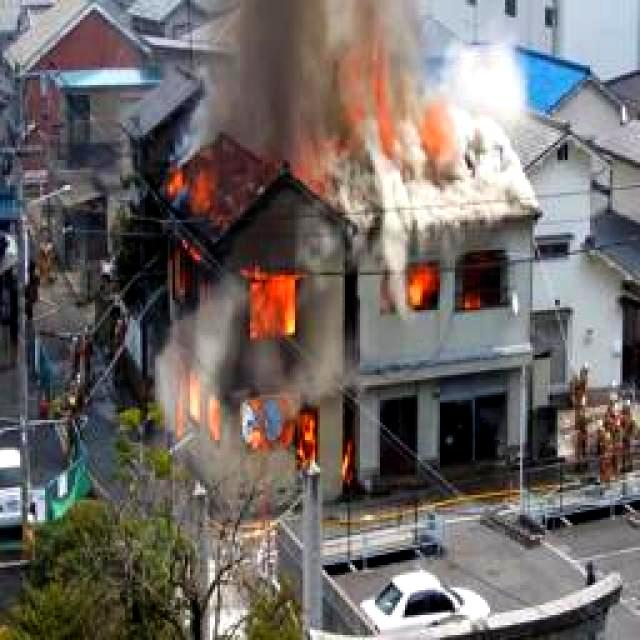fire: (165, 164, 319, 476), (352, 72, 460, 152), (410, 268, 492, 310)
